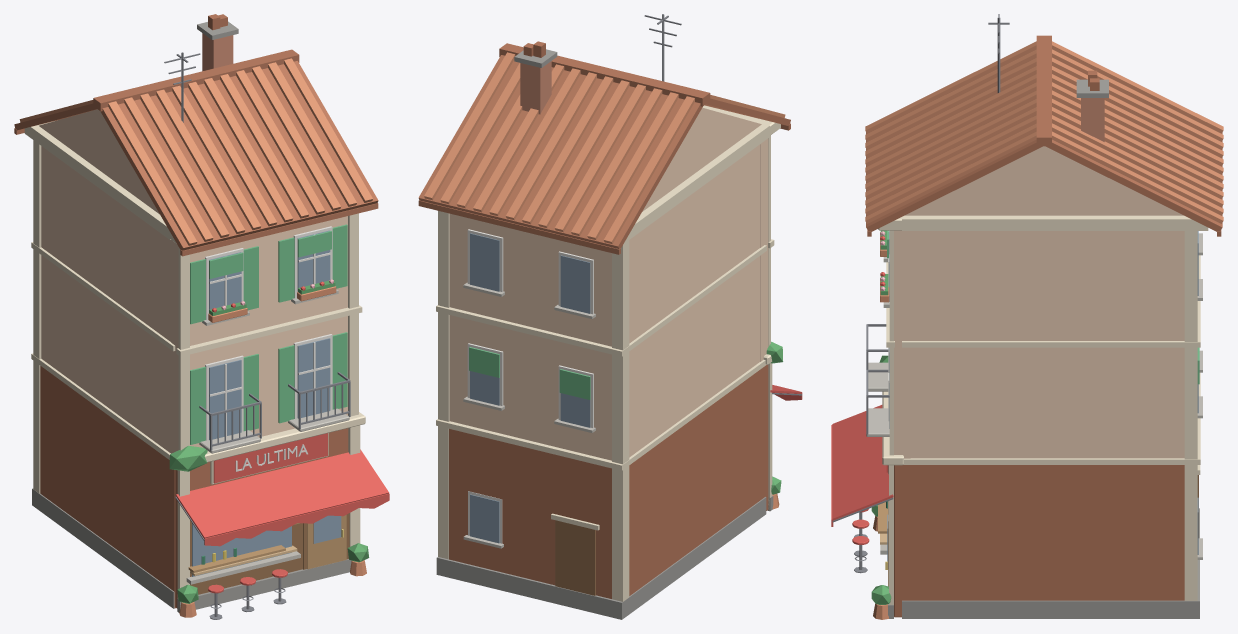
File: env_bar_laultima_facade_01.glb
3 views of the same model, side by side, from view 1: azimuth 30°, elevation 25°; view 2: azimuth 150°, elevation 25°; view 3: azimuth 270°, elevation 25° (orthographic). The views are drawn at different scales.
Visible parts, largest first — view 1: env_bar_laultima_facade_01_body; view 2: env_bar_laultima_facade_01_body; view 3: env_bar_laultima_facade_01_body.
Boxes of the visible parts, <box> form: env_bar_laultima_facade_01_body: <box>14,14,389,619</box>; env_bar_laultima_facade_01_body: <box>418,14,802,619</box>; env_bar_laultima_facade_01_body: <box>831,14,1223,619</box>.
Bounding box in the file's own units: 5.64 × 13.7 × 9.08.
